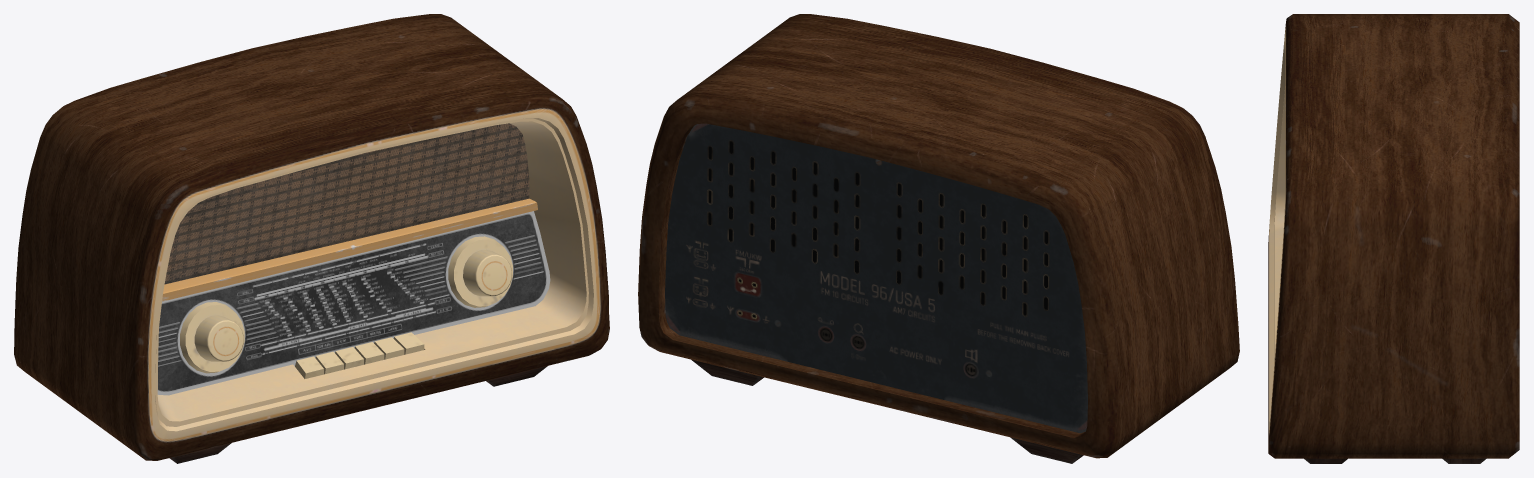
Rendered from SM_OldRadio.fbx.
The picture shows the model from 3 angles, left to right: view 1: azimuth 30°, elevation 25°; view 2: azimuth 150°, elevation 25°; view 3: azimuth 270°, elevation 25°; orthographic projection. The views are drawn at different scales.
Parts seen in each view (by area): view 1: SM_OldRadio; view 2: SM_OldRadio; view 3: SM_OldRadio.
Part boxes in pixels (x1,y1,x2,y2): SM_OldRadio: [14, 14, 609, 463]; SM_OldRadio: [638, 14, 1239, 463]; SM_OldRadio: [1268, 14, 1519, 463].
Size of the model in its own units: 0.3668 by 0.219 by 0.1734.
